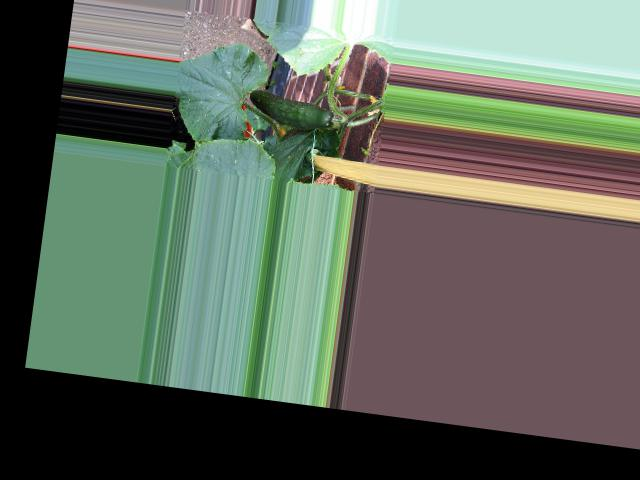cucumber: (246, 87, 336, 132)
